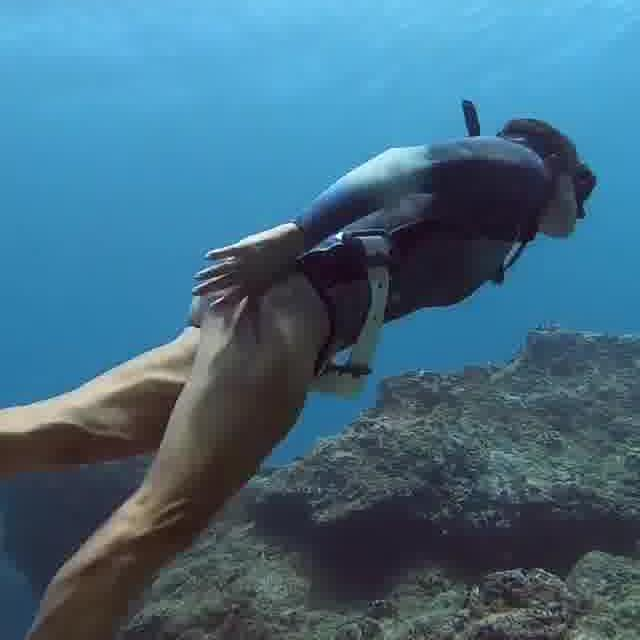human: (0, 101, 601, 640)
